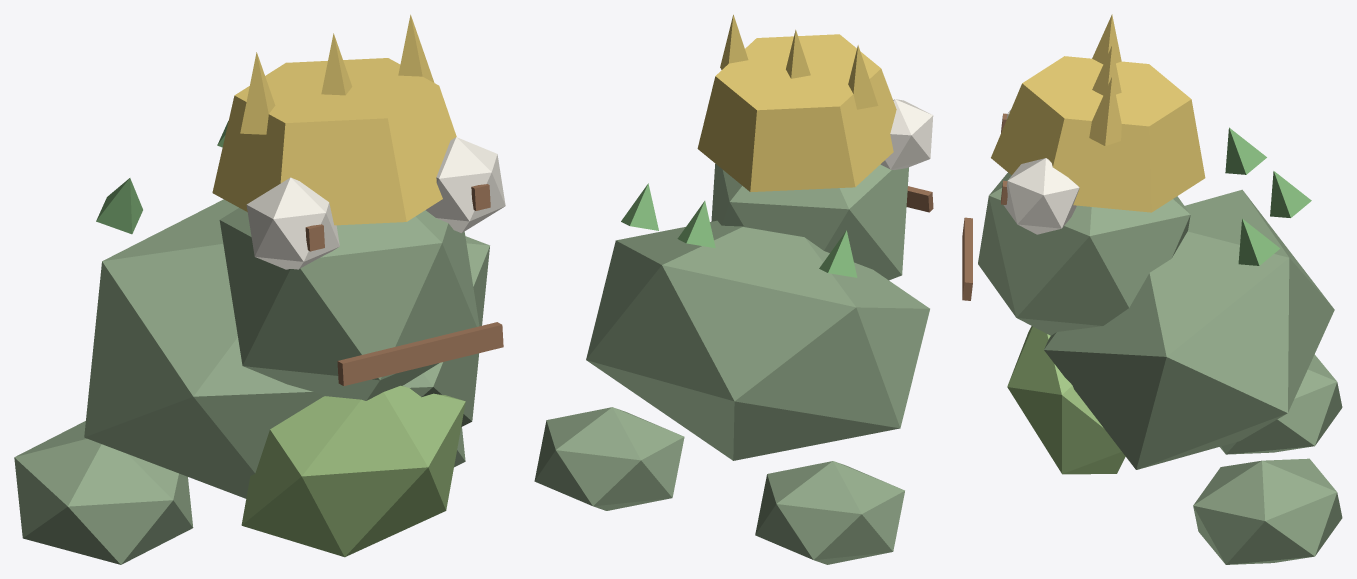
File: npcpose_toad_king_attack_03.glb
The picture shows the model from 3 angles, left to right: view 1: azimuth 30°, elevation 25°; view 2: azimuth 150°, elevation 25°; view 3: azimuth 270°, elevation 25°; orthographic projection. The views are drawn at different scales.
Visible parts, largest first — view 1: npcpose; view 2: npcpose; view 3: npcpose.
Boxes of the visible parts, x1,y1,x2,y2 form: npcpose: (14,14,505,564); npcpose: (534,14,933,564); npcpose: (962,14,1342,564).
Bounding box in the file's own units: 1.75 × 2.16 × 1.61.
